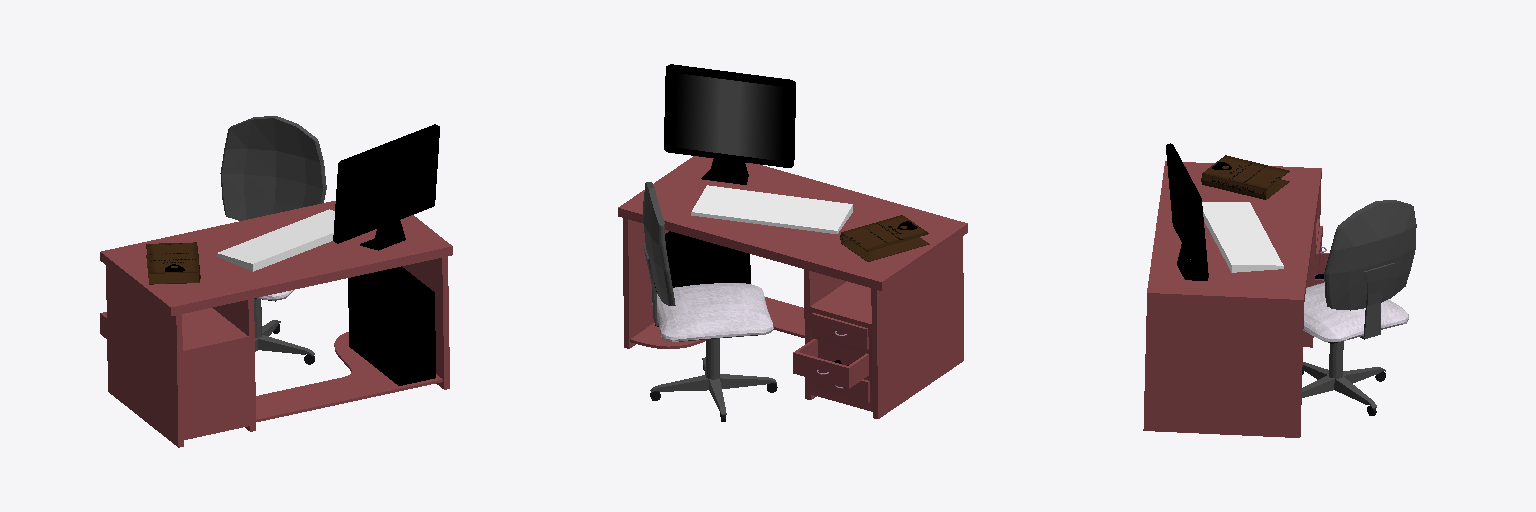
3 views of the same model, side by side, from view 1: azimuth 30°, elevation 25°; view 2: azimuth 150°, elevation 25°; view 3: azimuth 270°, elevation 25° (orthographic).
Parts seen in each view (by area): view 1: Rectangle001_Mesh.053_Rectangle001_Mesh.053_07_-_Default.001, Cylinder010_Mesh.052_Cylinder010_Mesh.052_04_-_Default.001, Box017_Mesh.055_Box017_Mesh.055_09_-_Default.001, Box014_Mesh.054_Box014_Mesh.054_09_-_Default.001, Box013_Mesh.049_Box013_Mesh.049_13_-_Default.001, Rectangle002_Mesh.056_Rectangle002_Mesh.056_14_-_Default.001; view 2: Rectangle001_Mesh.053_Rectangle001_Mesh.053_07_-_Default.001, Box017_Mesh.055_Box017_Mesh.055_09_-_Default.001, Cylinder010_Mesh.052_Cylinder010_Mesh.052_04_-_Default.001, Box013_Mesh.049_Box013_Mesh.049_13_-_Default.001, Box014_Mesh.054_Box014_Mesh.054_09_-_Default.001, Rectangle002_Mesh.056_Rectangle002_Mesh.056_14_-_Default.001; view 3: Rectangle001_Mesh.053_Rectangle001_Mesh.053_07_-_Default.001, Cylinder010_Mesh.052_Cylinder010_Mesh.052_04_-_Default.001, Box013_Mesh.049_Box013_Mesh.049_13_-_Default.001, Box017_Mesh.055_Box017_Mesh.055_09_-_Default.001, Rectangle002_Mesh.056_Rectangle002_Mesh.056_14_-_Default.001.
Boxes of the visible parts, x1,y1,x2,y2 form: Rectangle001_Mesh.053_Rectangle001_Mesh.053_07_-_Default.001: [100, 201, 452, 447]; Cylinder010_Mesh.052_Cylinder010_Mesh.052_04_-_Default.001: [220, 116, 326, 364]; Box017_Mesh.055_Box017_Mesh.055_09_-_Default.001: [333, 124, 439, 250]; Box014_Mesh.054_Box014_Mesh.054_09_-_Default.001: [348, 266, 435, 385]; Box013_Mesh.049_Box013_Mesh.049_13_-_Default.001: [217, 209, 334, 271]; Rectangle002_Mesh.056_Rectangle002_Mesh.056_14_-_Default.001: [146, 242, 200, 284]; Rectangle001_Mesh.053_Rectangle001_Mesh.053_07_-_Default.001: [618, 156, 967, 418]; Box017_Mesh.055_Box017_Mesh.055_09_-_Default.001: [664, 64, 795, 184]; Cylinder010_Mesh.052_Cylinder010_Mesh.052_04_-_Default.001: [643, 182, 777, 421]; Box013_Mesh.049_Box013_Mesh.049_13_-_Default.001: [691, 185, 852, 233]; Box014_Mesh.054_Box014_Mesh.054_09_-_Default.001: [654, 231, 750, 326]; Rectangle002_Mesh.056_Rectangle002_Mesh.056_14_-_Default.001: [840, 215, 929, 261]; Rectangle001_Mesh.053_Rectangle001_Mesh.053_07_-_Default.001: [1143, 161, 1329, 437]; Cylinder010_Mesh.052_Cylinder010_Mesh.052_04_-_Default.001: [1302, 200, 1416, 415]; Box013_Mesh.049_Box013_Mesh.049_13_-_Default.001: [1202, 202, 1283, 272]; Box017_Mesh.055_Box017_Mesh.055_09_-_Default.001: [1166, 143, 1208, 280]; Rectangle002_Mesh.056_Rectangle002_Mesh.056_14_-_Default.001: [1201, 155, 1289, 199].
Size of the model in its own units: 1.71 by 1.46 by 1.42.
6 materials, 4 textured.